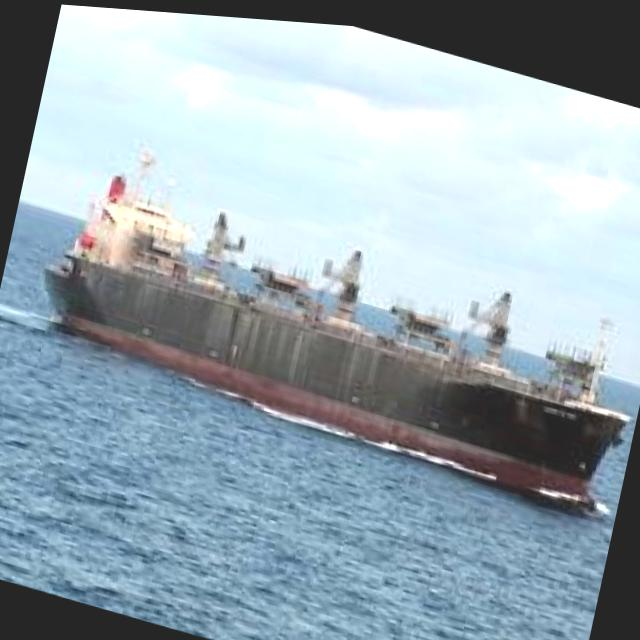ship2: (41, 135, 631, 505)
